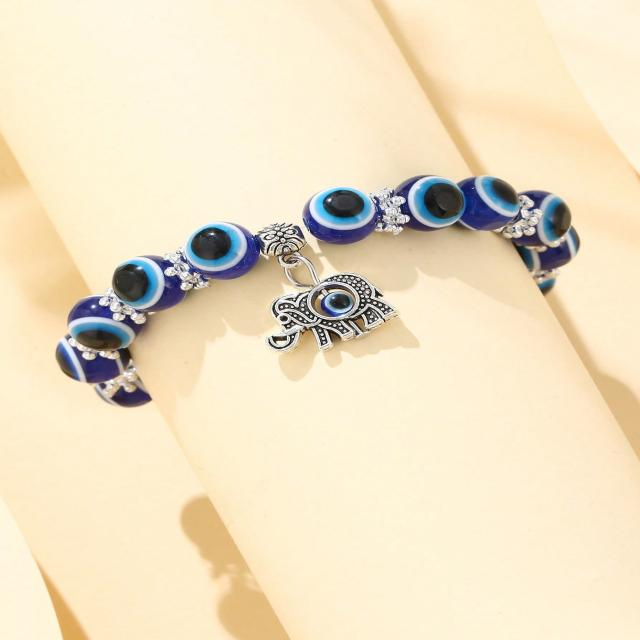bracelet: (34, 103, 640, 454)
